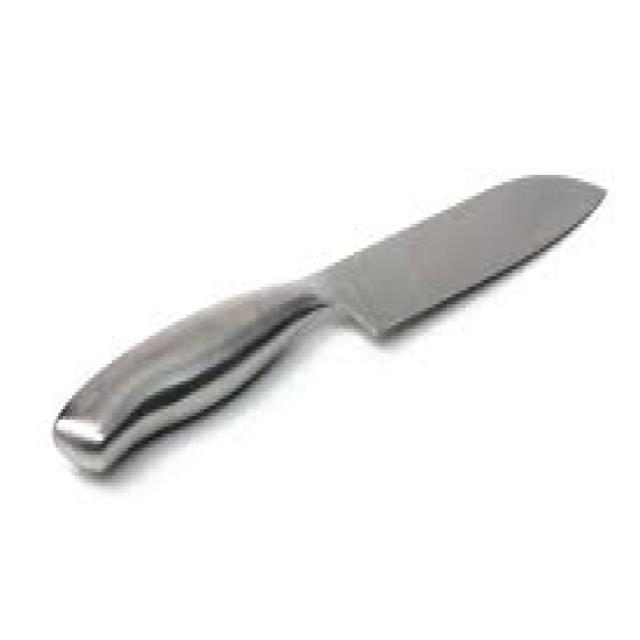Knife: (52, 168, 608, 476)
